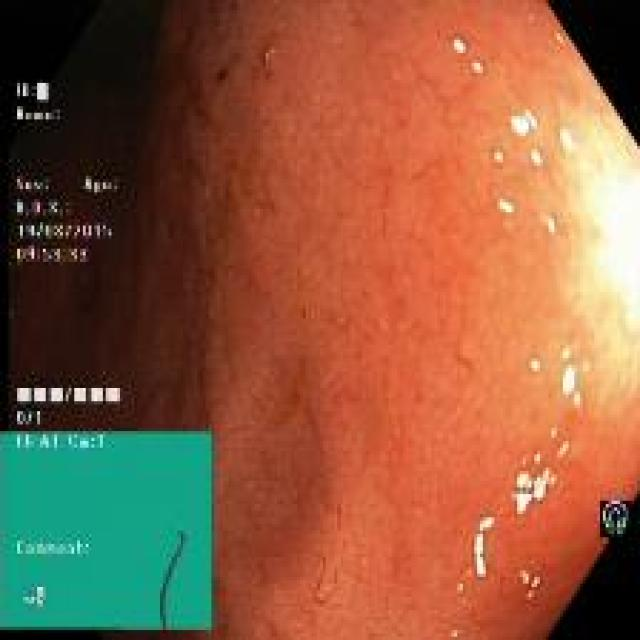ulcerative-colitis-grade-1: (10, 3, 640, 638)
